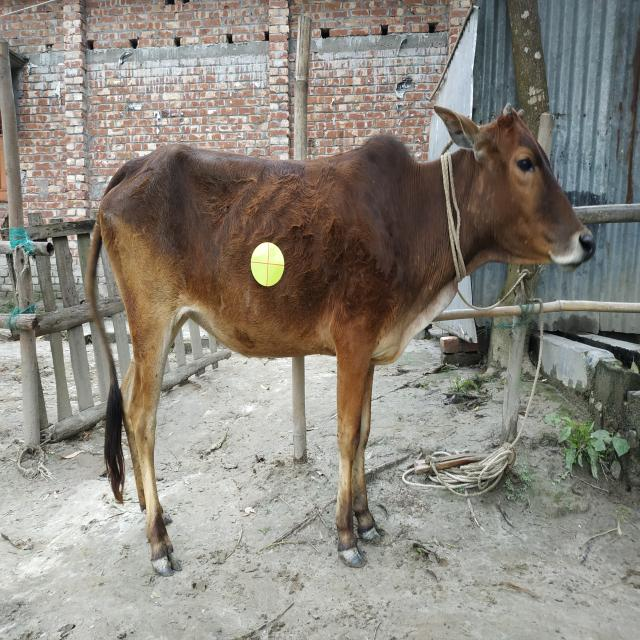badan_sapi: (104, 159, 415, 362)
sapi: (82, 108, 599, 570)
